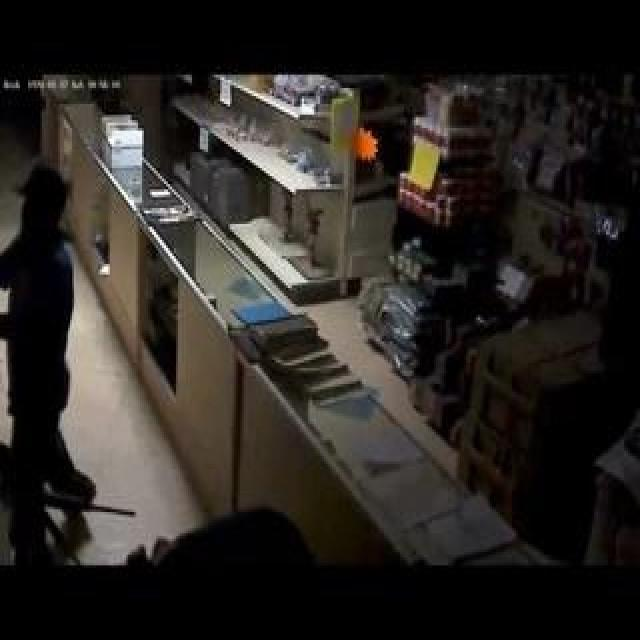thief: (16, 154, 80, 328)
